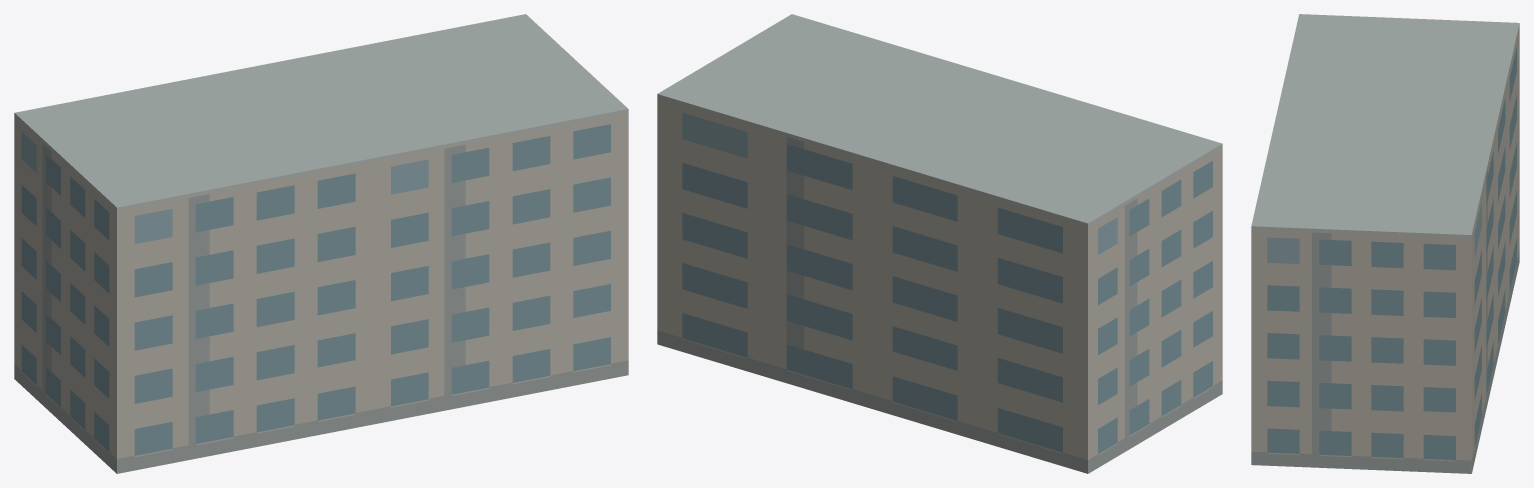
File: residential-bec3b063-fb4a-4318-b385-ca63ac16886c.glb
3 renders of one model, left to right at view 1: azimuth 30°, elevation 25°; view 2: azimuth 150°, elevation 25°; view 3: azimuth 270°, elevation 25°, orthographic. The views are drawn at different scales.
Parts seen in each view (by area): view 1: residential-bec3b063-fb4a-4318-b385-ca63ac16886c.tmp; view 2: residential-bec3b063-fb4a-4318-b385-ca63ac16886c.tmp; view 3: residential-bec3b063-fb4a-4318-b385-ca63ac16886c.tmp.
Boxes of the visible parts, x1,y1,x2,y2 form: residential-bec3b063-fb4a-4318-b385-ca63ac16886c.tmp: (14,14,628,473); residential-bec3b063-fb4a-4318-b385-ca63ac16886c.tmp: (657,14,1222,473); residential-bec3b063-fb4a-4318-b385-ca63ac16886c.tmp: (1251,14,1519,473).
Bounding box in the file's own units: 30.29 × 15.25 × 15.54.
